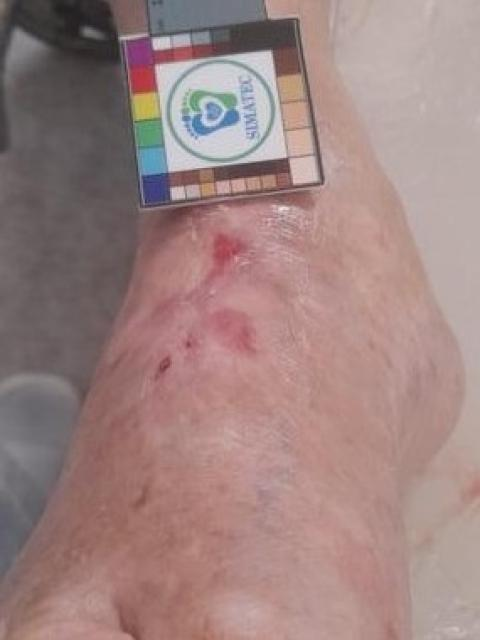wound: (205, 230, 253, 266), (150, 349, 173, 388)
